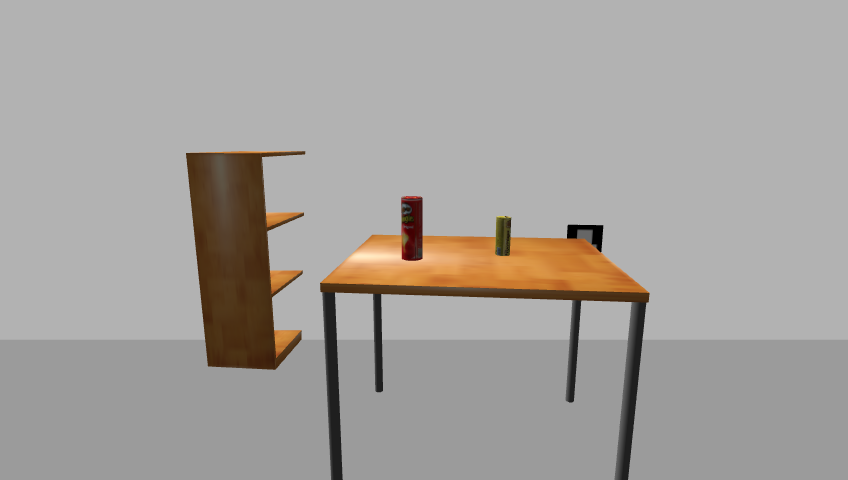aruco marker: (563, 223, 607, 256)
biscuits pack: (494, 215, 512, 258)
bookshelf: (183, 149, 313, 373)
dinner table: (316, 232, 659, 479)
pringles can: (399, 196, 423, 262)
